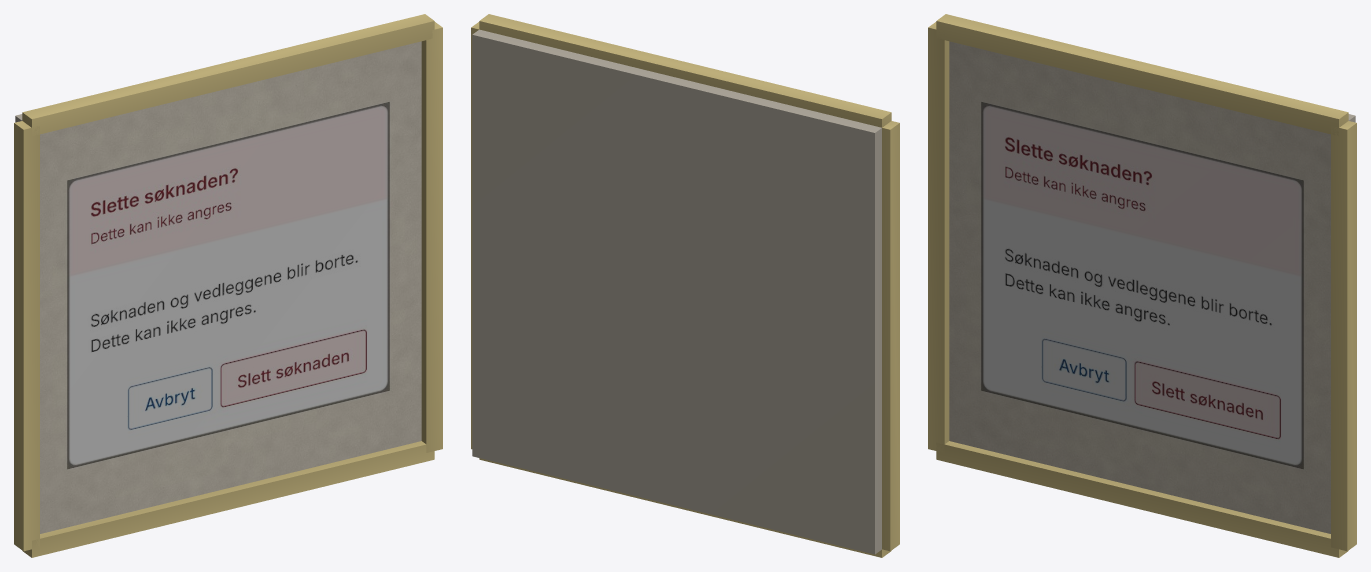
File: gallery_dialog.glb
The picture shows the model from 3 angles, left to right: view 1: azimuth 30°, elevation 25°; view 2: azimuth 150°, elevation 25°; view 3: azimuth 330°, elevation 25°; orthographic projection.
Visible parts, largest first — view 1: plate; view 2: plate; view 3: plate.
Boxes of the visible parts, x1,y1,x2,y2 form: plate: (14, 14, 442, 557); plate: (471, 14, 899, 557); plate: (928, 14, 1356, 557).
Bounding box in the file's own units: 0.51 × 0.51 × 0.035.
Materials: 2 (1 with a texture image).
